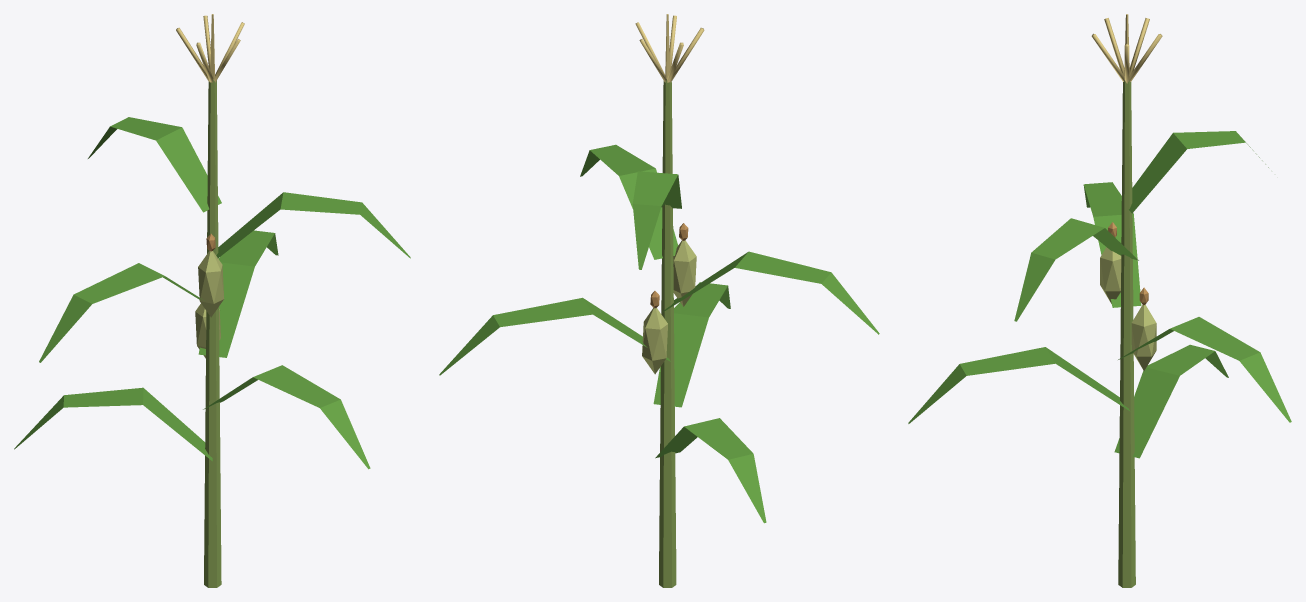
The model's file is crop.fbx.
3 views of the same model, side by side, from view 1: azimuth 30°, elevation 25°; view 2: azimuth 150°, elevation 25°; view 3: azimuth 270°, elevation 25° (orthographic).
Visible parts, largest first — view 1: Object_66; view 2: Object_66; view 3: Object_66.
Boxes of the visible parts, bbox=[...] form: Object_66: bbox=[14, 14, 410, 587]; Object_66: bbox=[439, 14, 879, 587]; Object_66: bbox=[908, 14, 1291, 587].
Size of the model in its own units: 133 by 214 by 131.
